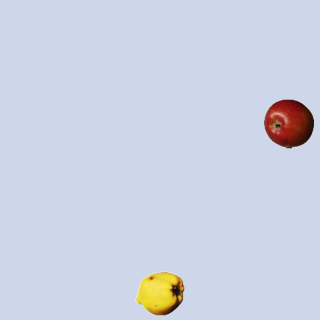Apple Braeburn: (263, 98, 313, 148)
Quince: (134, 268, 184, 318)
